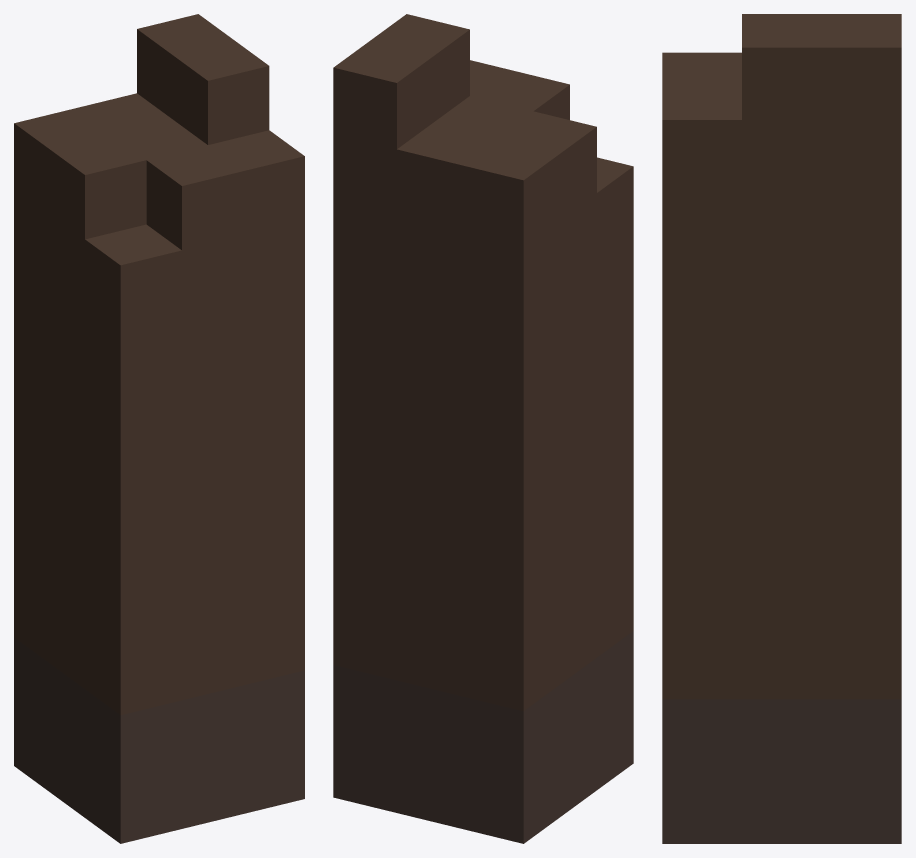
Rendered from goat__leg_bl.glb.
3 renders of one model, left to right at view 1: azimuth 30°, elevation 25°; view 2: azimuth 150°, elevation 25°; view 3: azimuth 270°, elevation 25°, orthographic. The views are drawn at different scales.
Parts seen in each view (by area): view 1: goat__leg_bl; view 2: goat__leg_bl; view 3: goat__leg_bl.
Boxes of the visible parts, x1,y1,x2,y2 form: goat__leg_bl: (14,14,304,843); goat__leg_bl: (333,14,633,843); goat__leg_bl: (662,14,901,843).
Size of the model in its own units: 0.3 by 1.1 by 0.3.
Materials: 1 (1 with a texture image).
